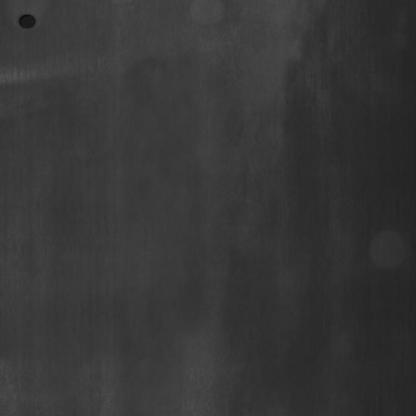punching_hole: (16, 13, 36, 29)
